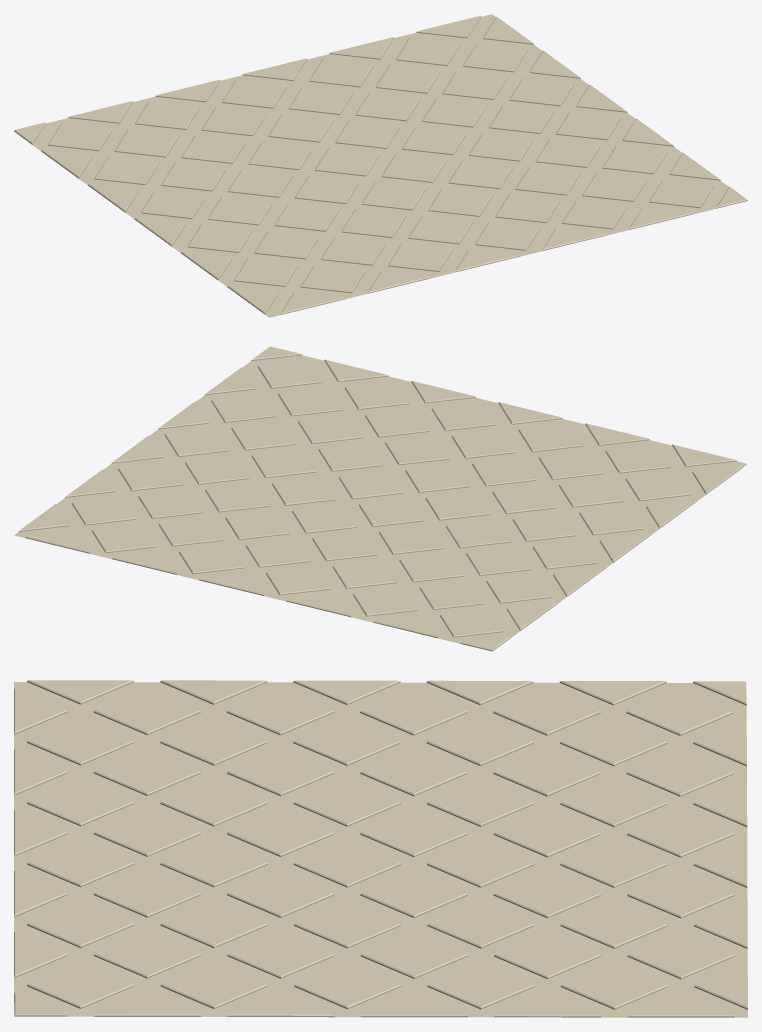
Rendered from floor_square_diamond.fbx.
The picture shows the model from 3 angles, top to bottom: view 1: azimuth 30°, elevation 25°; view 2: azimuth 150°, elevation 25°; view 3: azimuth 270°, elevation 25°; orthographic projection. The views are drawn at different scales.
Parts seen in each view (by area): view 1: Floor_Square_Diamond; view 2: Floor_Square_Diamond; view 3: Floor_Square_Diamond.
Boxes of the visible parts, bbox=[...] form: Floor_Square_Diamond: bbox=[14, 14, 747, 317]; Floor_Square_Diamond: bbox=[14, 346, 747, 651]; Floor_Square_Diamond: bbox=[14, 680, 747, 1017].
Bounding box in the file's own units: 900 × 4.15 × 834.
